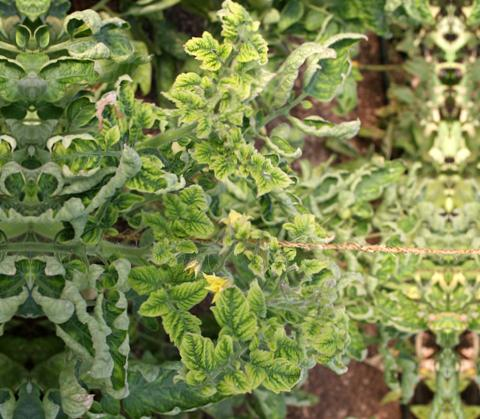Tomato leaf yellow virus: (219, 0, 272, 71), (210, 285, 262, 350), (242, 352, 301, 409), (240, 145, 289, 207), (159, 73, 228, 113), (175, 325, 219, 377), (183, 30, 233, 75), (162, 185, 207, 229), (159, 282, 218, 312), (125, 267, 175, 297), (173, 208, 221, 238), (132, 159, 170, 196), (128, 290, 170, 320), (208, 153, 242, 179)
